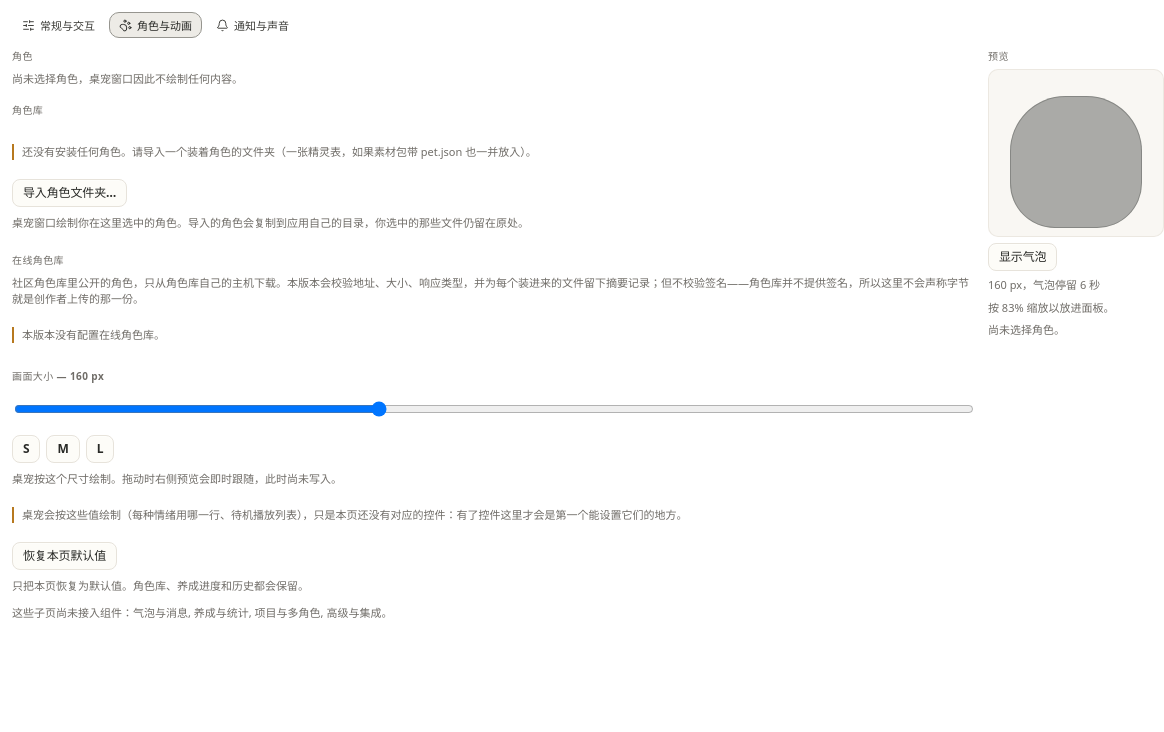
Test: the size on screen › offers upstream’s S/M/L presets at the schema’s default scale
Click the button "L". click: (100,449)
box: 86,435 -> 114,463
Wait 600 ms
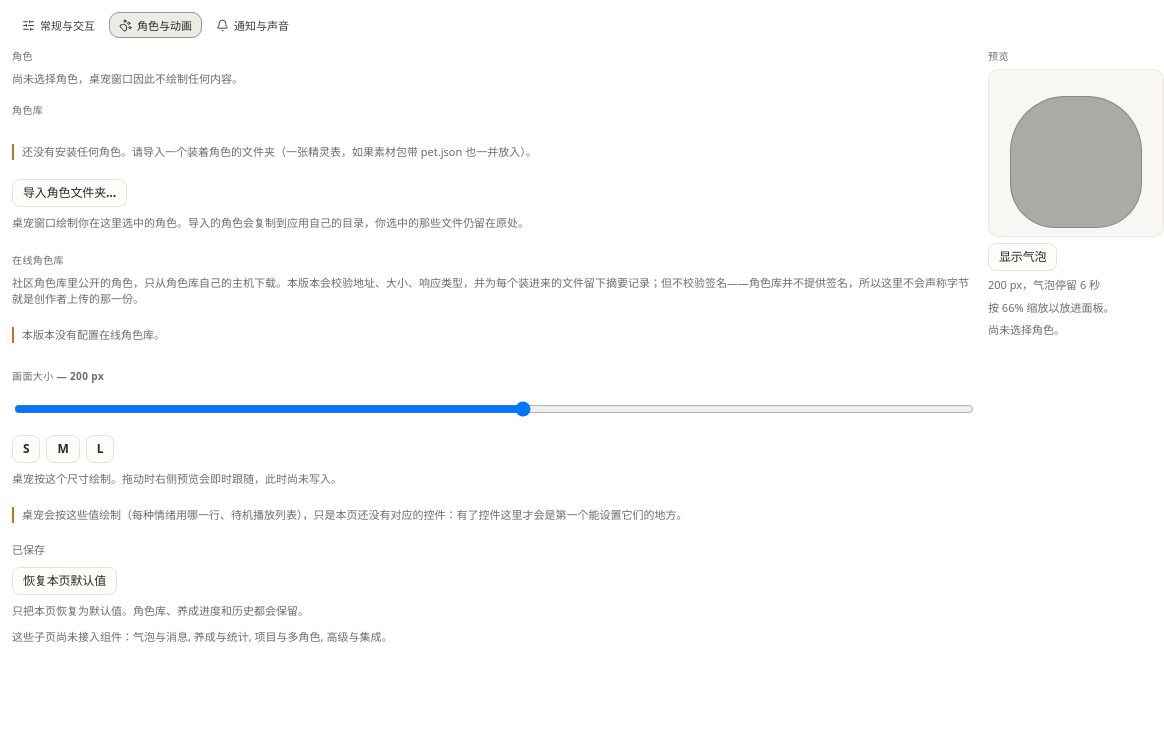
Click the button "S". click: (26,449)
box: 12,435 -> 40,463
Wait 600 ms
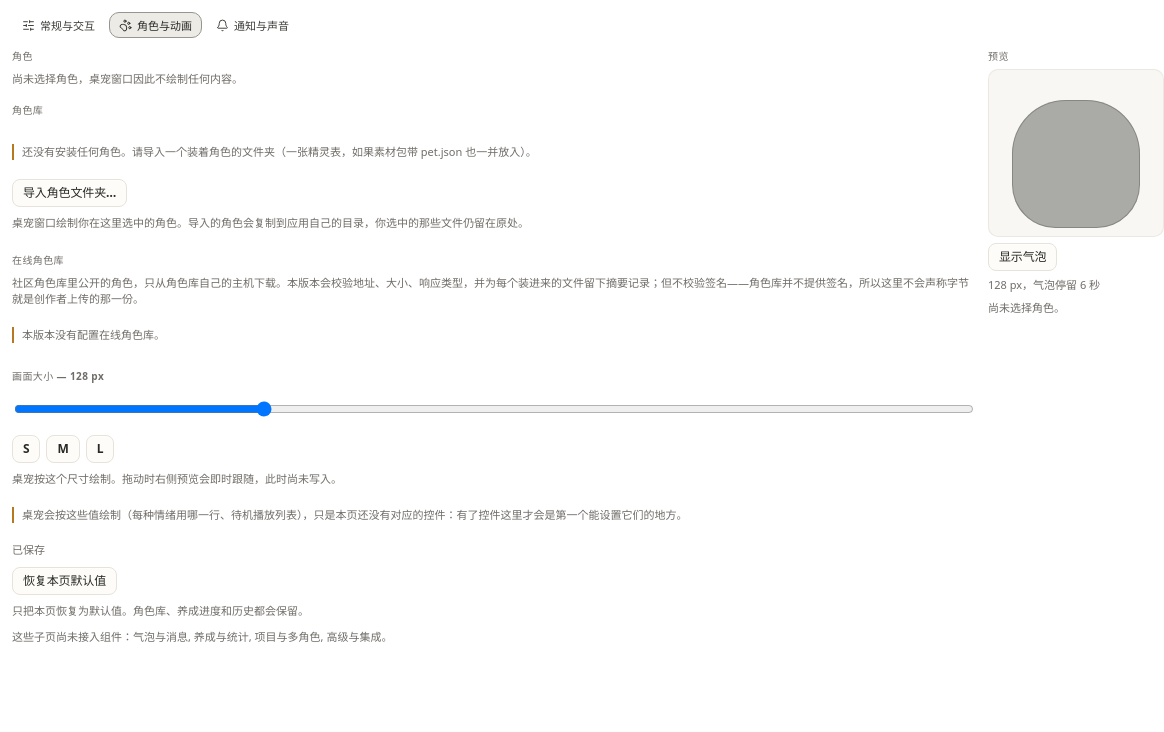
Expected: the slider with test id "pet-character-size" holds "128", 14,393 -> 974,425
